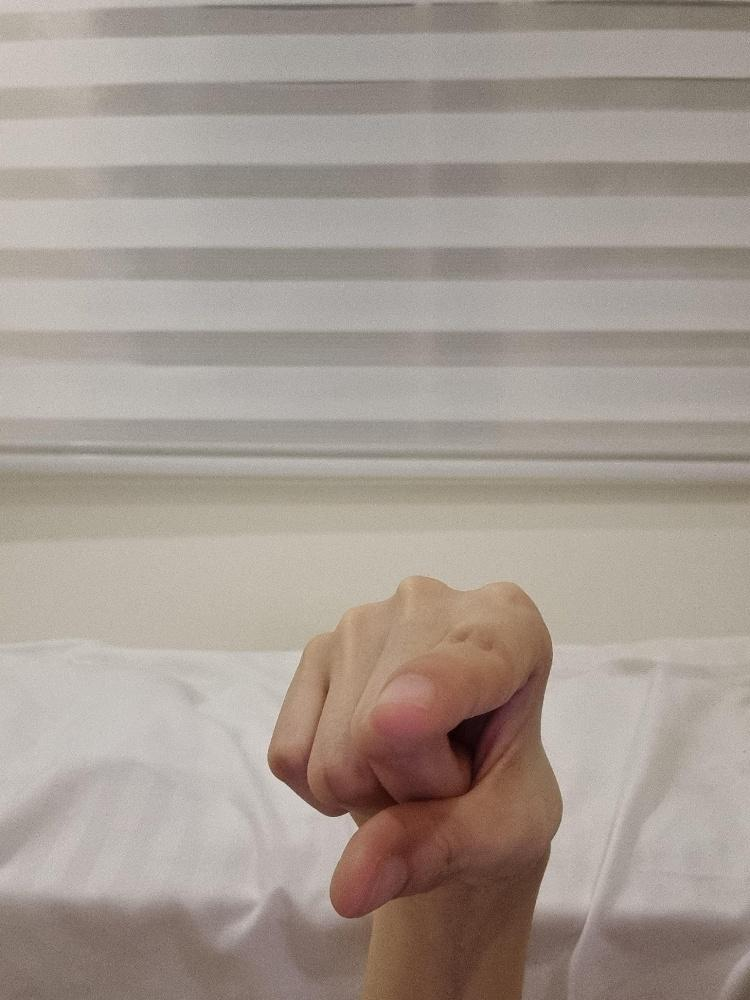z: (265, 569, 566, 918)
